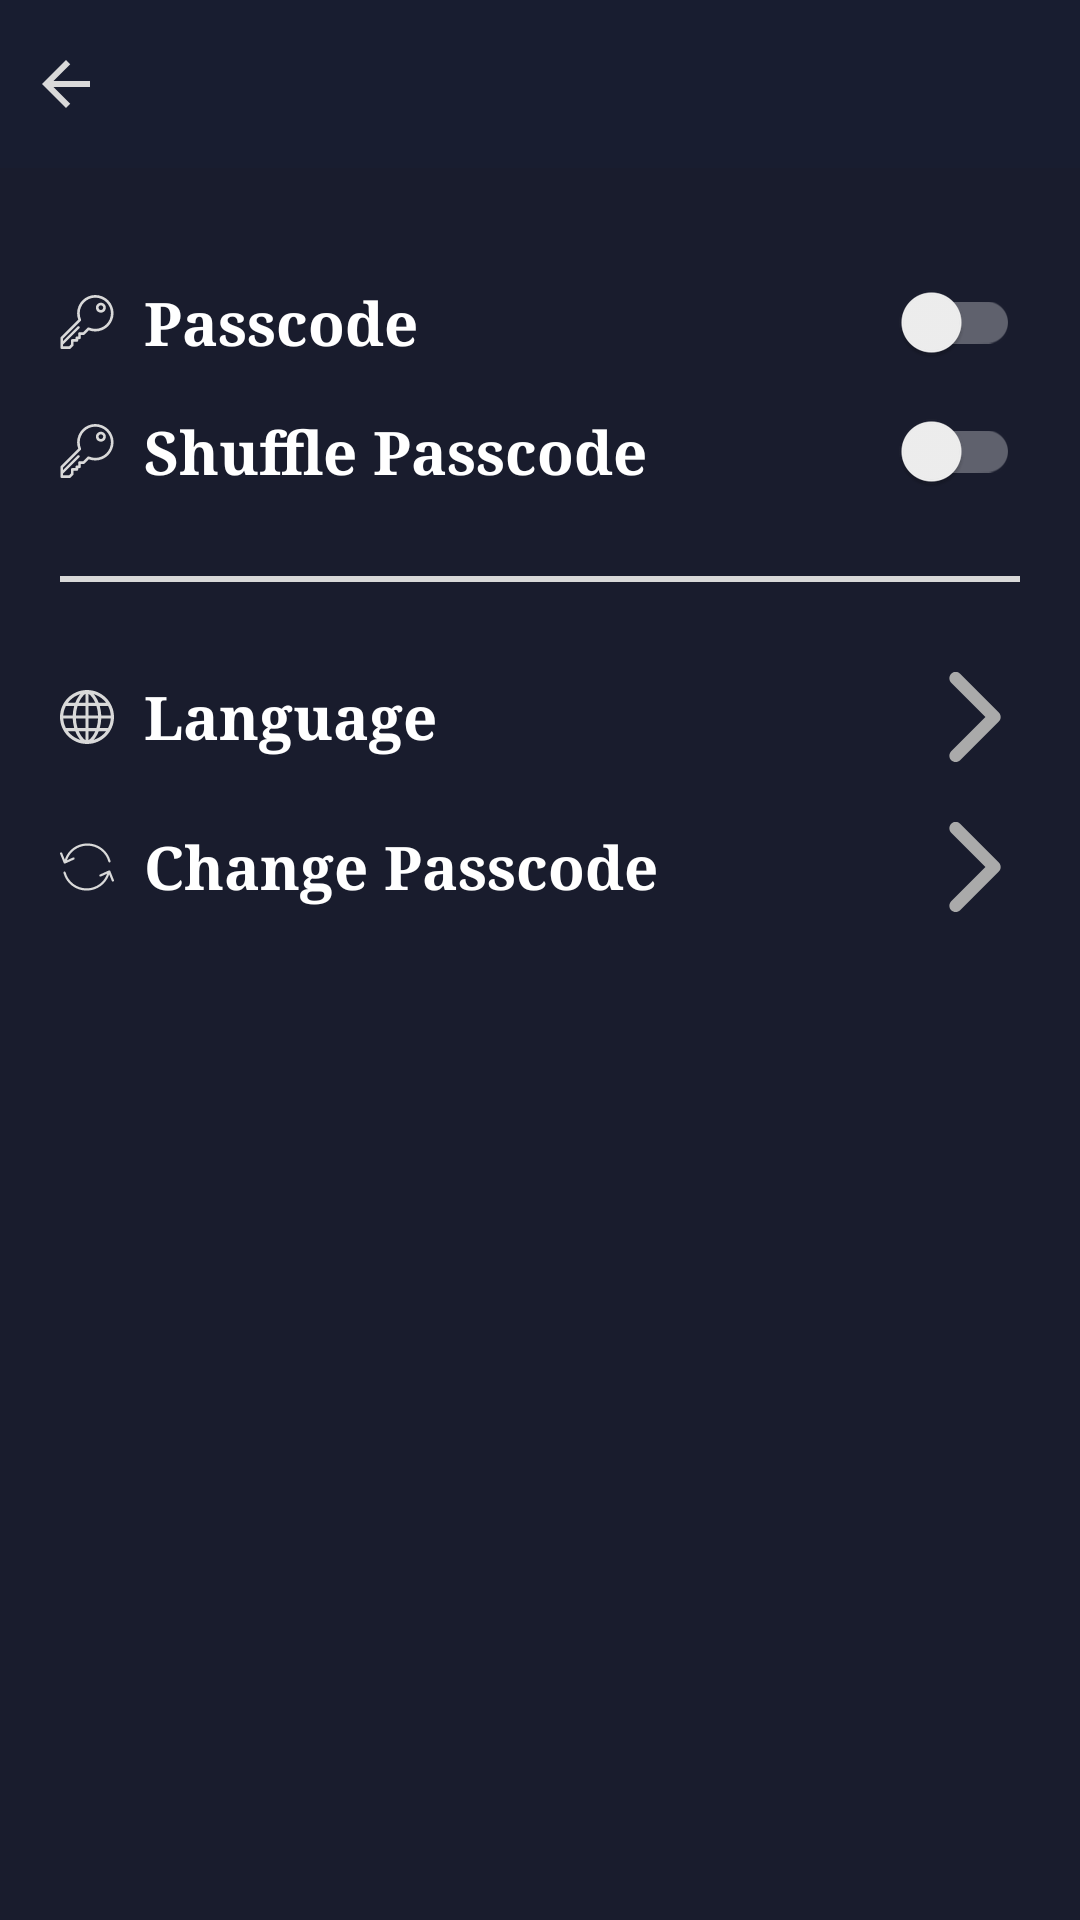

Named icons in this screenshot (1080*1920) and their centers, (x,y):
arrow back: (66,84)
